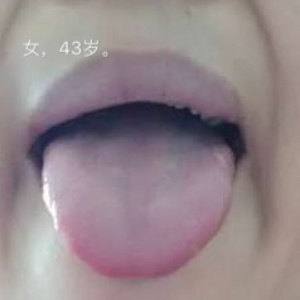st: (40, 139, 237, 282)
